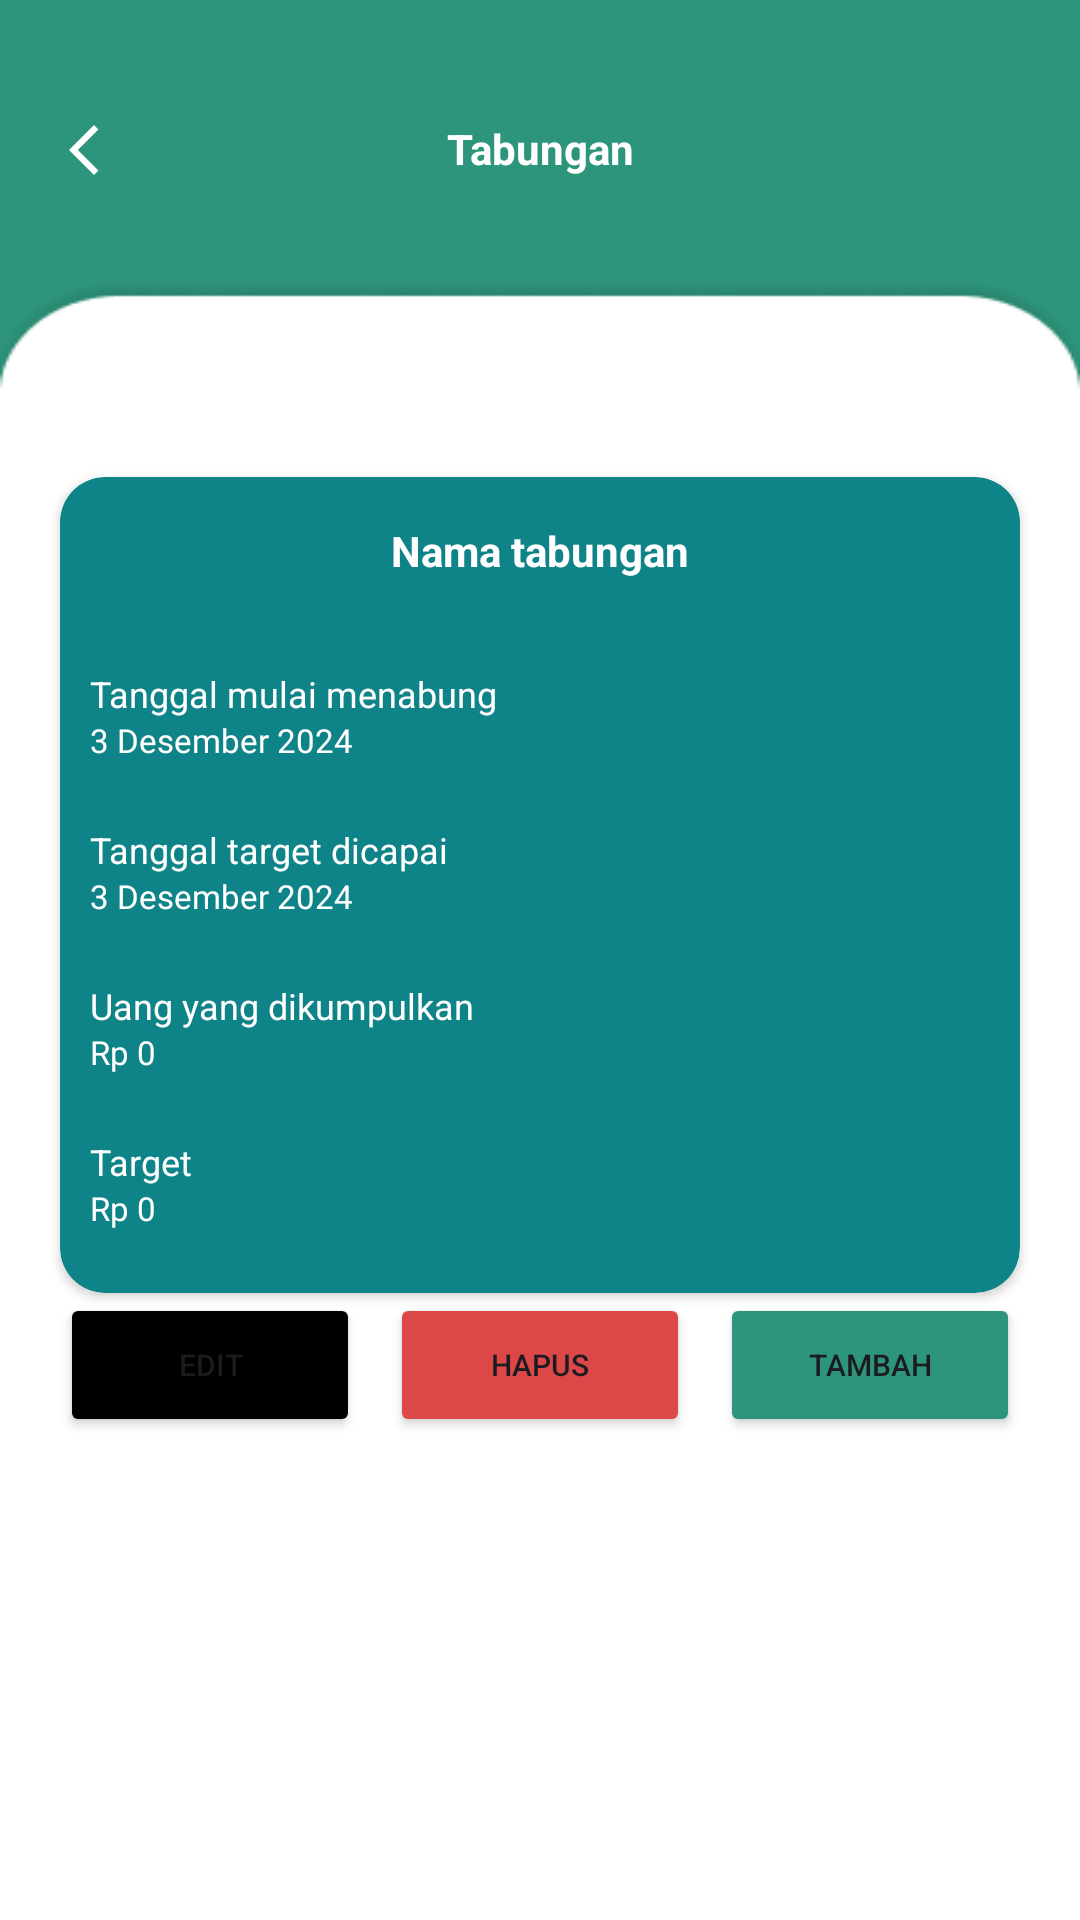

Named icons in this screenshot (1080x1920) and their bounding boxes, (x1, y1, x2, y2):
arrow back: (69, 125, 99, 175)
